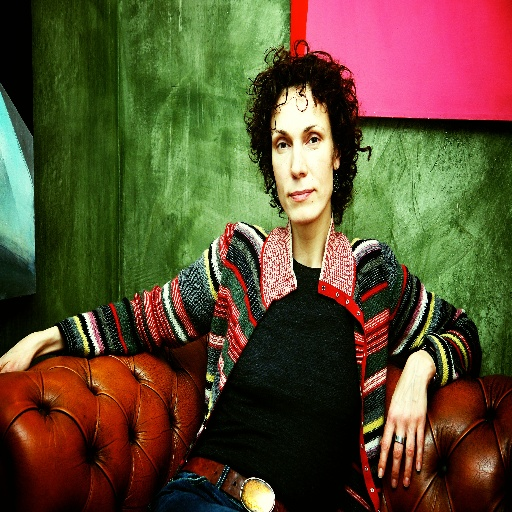hand: (390, 363, 437, 479), (0, 335, 38, 375)
